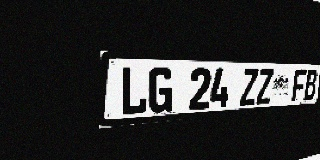2: (189, 67, 212, 110)
4: (210, 68, 231, 108)
B: (303, 69, 318, 101)
F: (291, 69, 307, 102)
G: (148, 67, 174, 114)
L: (120, 66, 148, 116)
Z: (240, 68, 259, 106), (256, 69, 274, 105)
